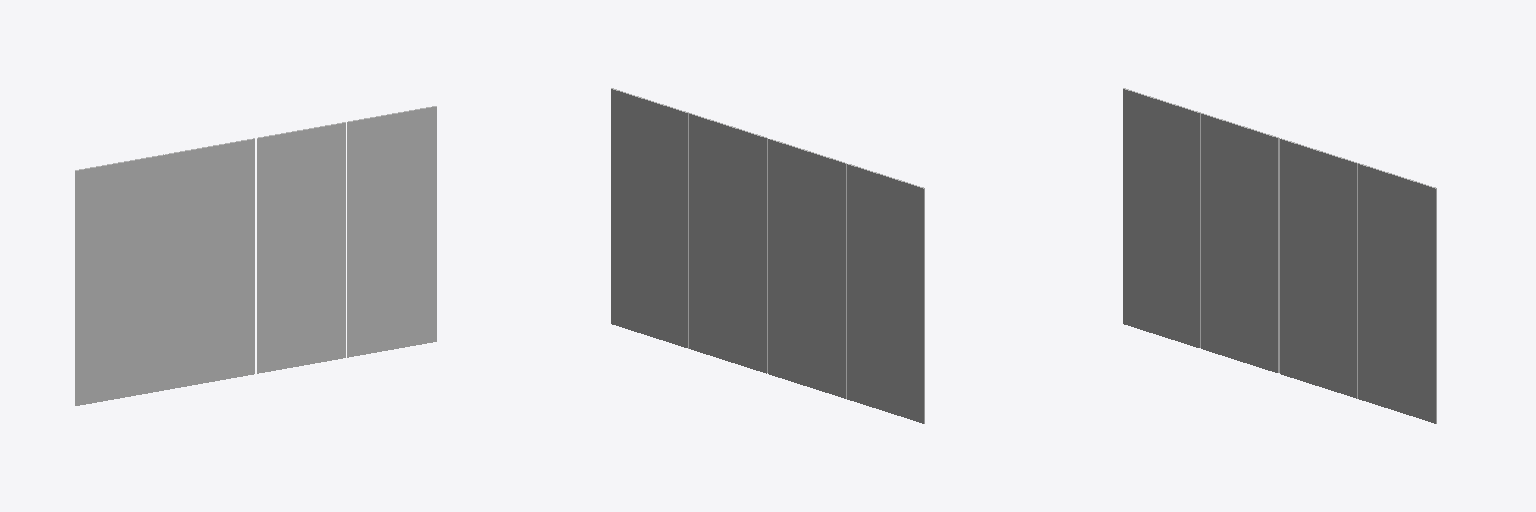
File: puertavidrio5.obj
3 renders of one model, left to right at view 1: azimuth 30°, elevation 25°; view 2: azimuth 150°, elevation 25°; view 3: azimuth 330°, elevation 25°, orthographic.
Visible parts, largest first — view 1: glass_door01_obj5:Object004 pasted__group2 group12; view 2: glass_door01_obj5:Object004 pasted__group2 group12; view 3: glass_door01_obj5:Object004 pasted__group2 group12.
Part boxes in pixels (bbox=[...]): glass_door01_obj5:Object004 pasted__group2 group12: bbox=[75, 106, 436, 405]; glass_door01_obj5:Object004 pasted__group2 group12: bbox=[611, 88, 924, 423]; glass_door01_obj5:Object004 pasted__group2 group12: bbox=[1123, 88, 1436, 423].
Bounding box in the file's own units: 3.95 × 2.63 × 0.5091.